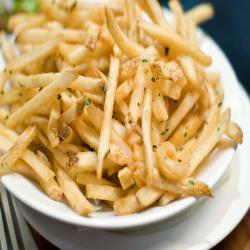fries: (10, 9, 204, 202)
